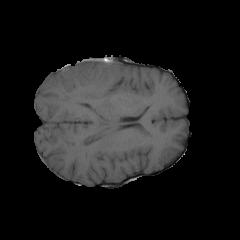glioma: (68, 63, 110, 103)
